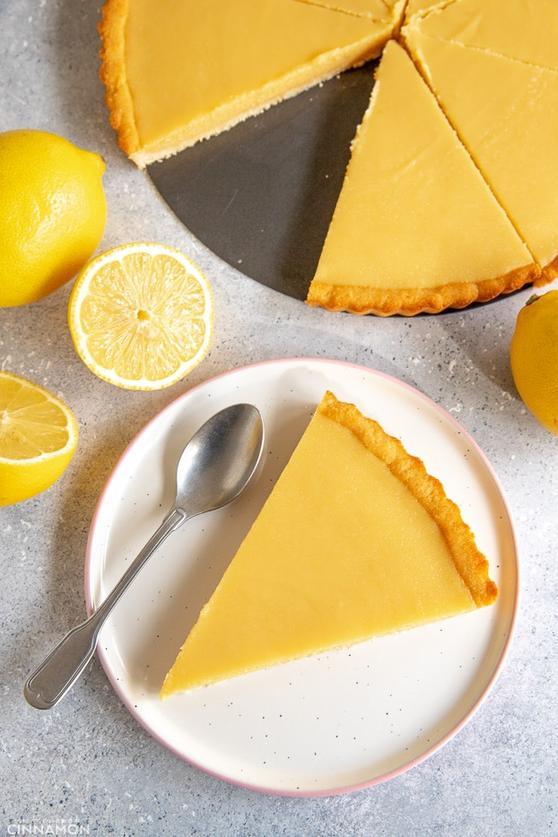lemon: (1, 118, 111, 329)
